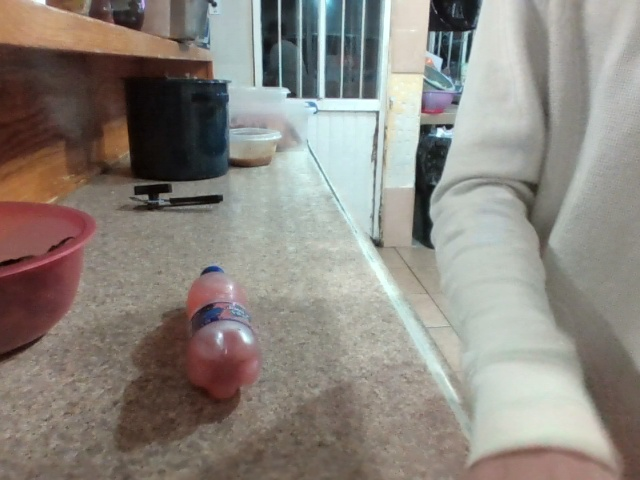botella: (145, 231, 312, 414)
